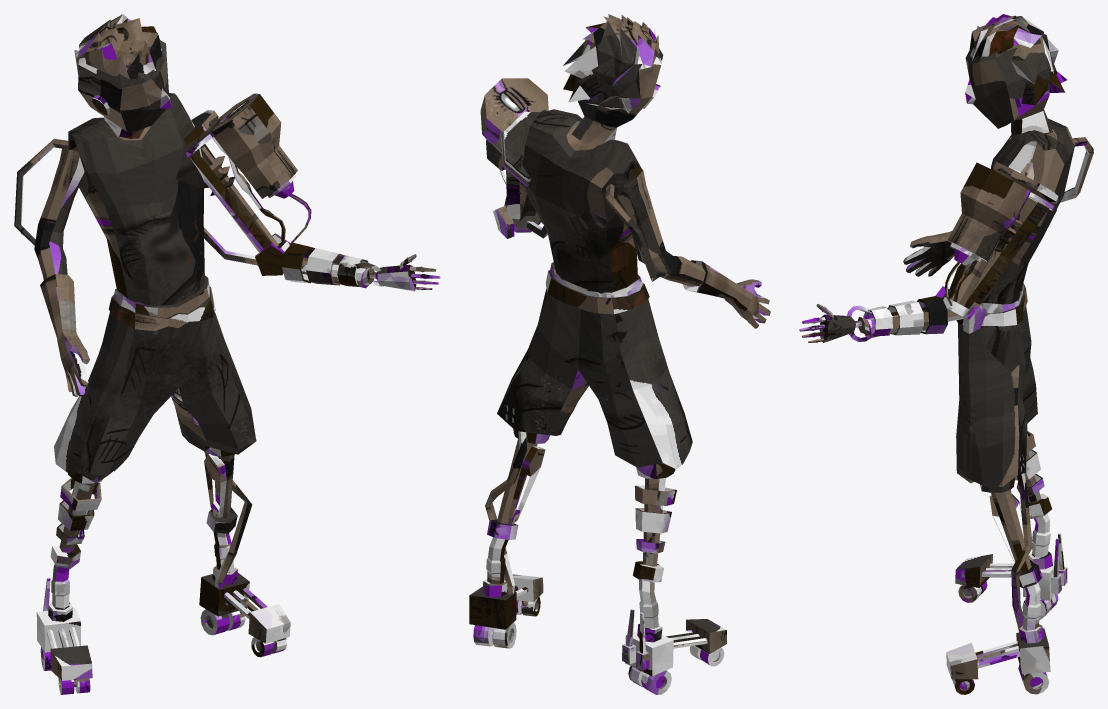
The model's file is CyborgFINALAnimation_000015.obj.
The picture shows the model from 3 angles, left to right: view 1: azimuth 30°, elevation 25°; view 2: azimuth 150°, elevation 25°; view 3: azimuth 270°, elevation 25°; orthographic projection. The views are drawn at different scales.
Visible parts, largest first — view 1: CyborgMesh_Cube.002; view 2: CyborgMesh_Cube.002; view 3: CyborgMesh_Cube.002.
Boxes of the visible parts, bbox=[...] form: CyborgMesh_Cube.002: bbox=[14, 14, 440, 694]; CyborgMesh_Cube.002: bbox=[469, 14, 770, 694]; CyborgMesh_Cube.002: bbox=[799, 14, 1093, 694].
Bounding box in the file's own units: 4.72 × 9.56 × 4.12.
